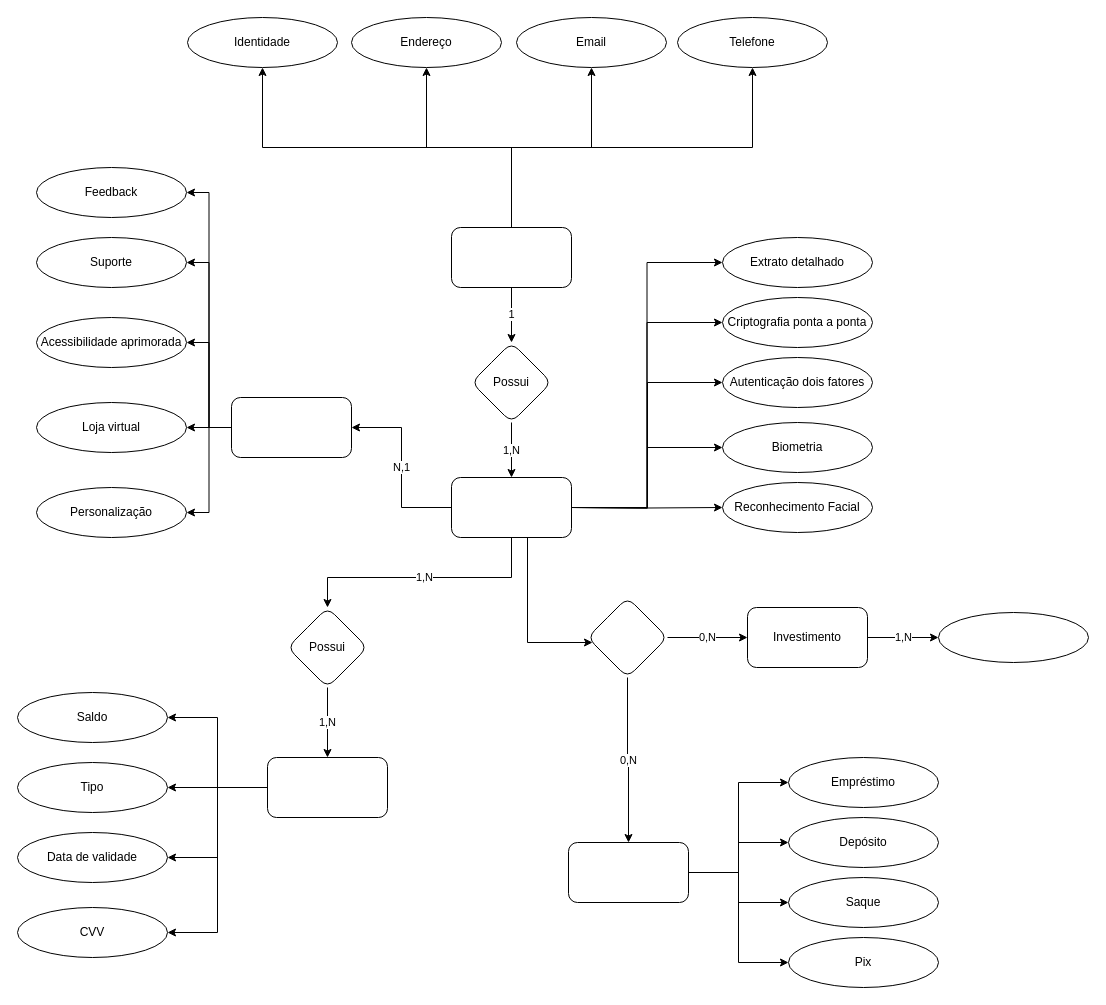
This 1106x1005 diagram has some shape labels left out. Each missing label, with the centre of its shape:
Cartão: point 327,787
Cliente: point 511,257
Conta: point 511,507
Faz: point 627,637
Recompensas de longo prazo: point 1013,637
Site: point 291,427
Transação: point 628,872
